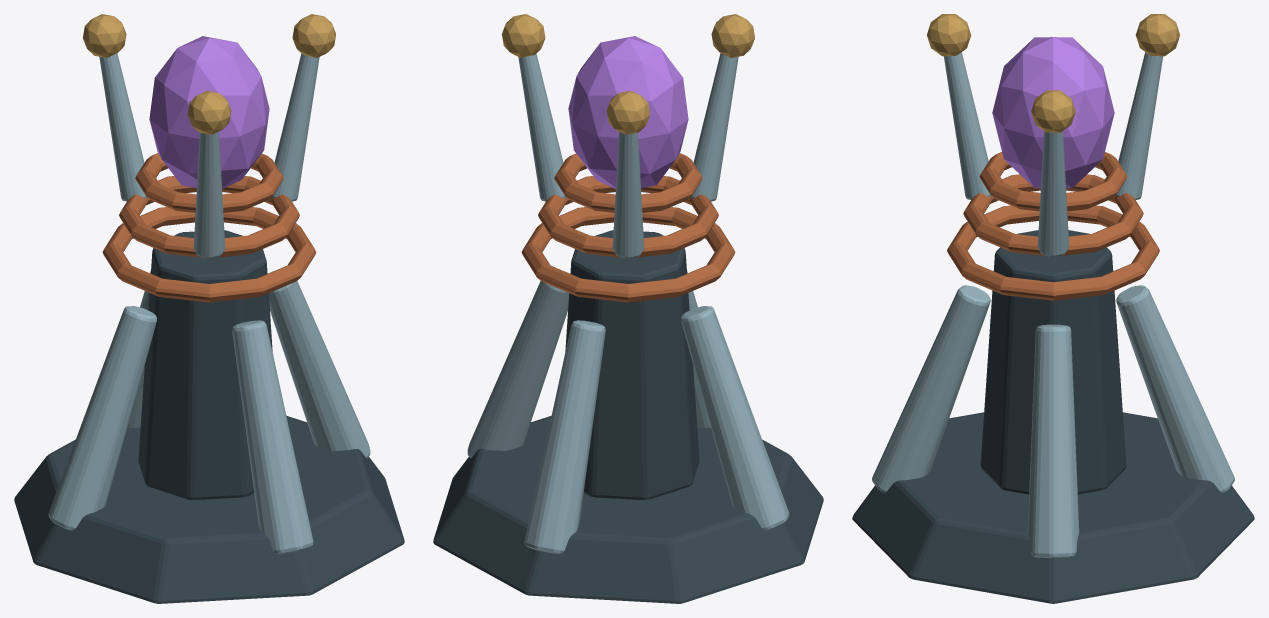
File: stormspire.glb
The picture shows the model from 3 angles, left to right: view 1: azimuth 30°, elevation 25°; view 2: azimuth 150°, elevation 25°; view 3: azimuth 270°, elevation 25°; orthographic projection.
Visible parts, largest first — view 1: OctagonalPlinth, Buttress, CopperCoil, AetherHeart, Conductor, ArcTerminal; view 2: OctagonalPlinth, Buttress, CopperCoil, AetherHeart, Conductor, ArcTerminal; view 3: OctagonalPlinth, Buttress, CopperCoil, AetherHeart, Conductor, ArcTerminal.
Part boxes in pixels (x1,y1,x2,y2): OctagonalPlinth: (14, 230, 404, 603); Buttress: (48, 270, 370, 553); CopperCoil: (102, 153, 316, 302); AetherHeart: (149, 36, 269, 188); Conductor: (99, 53, 319, 258); ArcTerminal: (83, 14, 335, 134); OctagonalPlinth: (433, 230, 823, 603); Buttress: (467, 270, 789, 553); CopperCoil: (521, 153, 735, 302); AetherHeart: (568, 36, 688, 188); Conductor: (518, 53, 738, 258); ArcTerminal: (502, 14, 754, 134); OctagonalPlinth: (852, 230, 1254, 603); Buttress: (872, 285, 1234, 557); CopperCoil: (947, 152, 1159, 300); AetherHeart: (992, 37, 1114, 188); Conductor: (944, 52, 1162, 256); ArcTerminal: (927, 14, 1179, 132).
Size of the model in its own units: 2.17 by 2.87 by 2.17.
